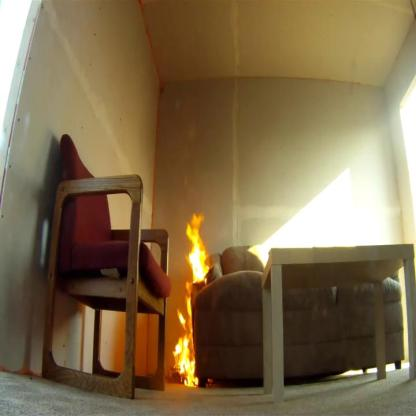fire: (172, 209, 212, 391)
